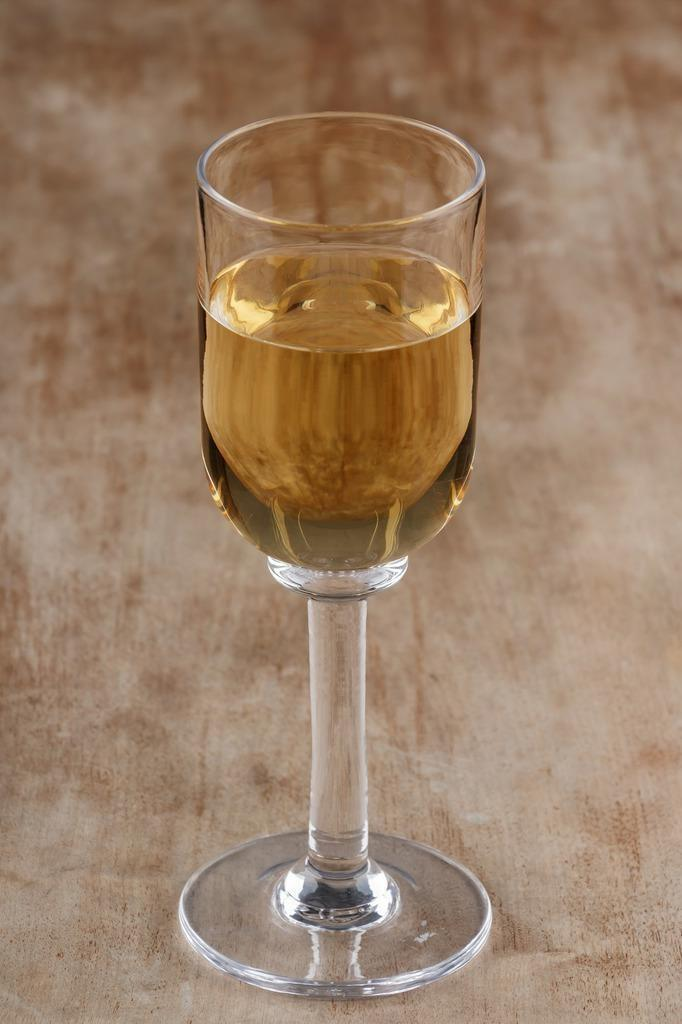glass-wine: (184, 109, 507, 991)
